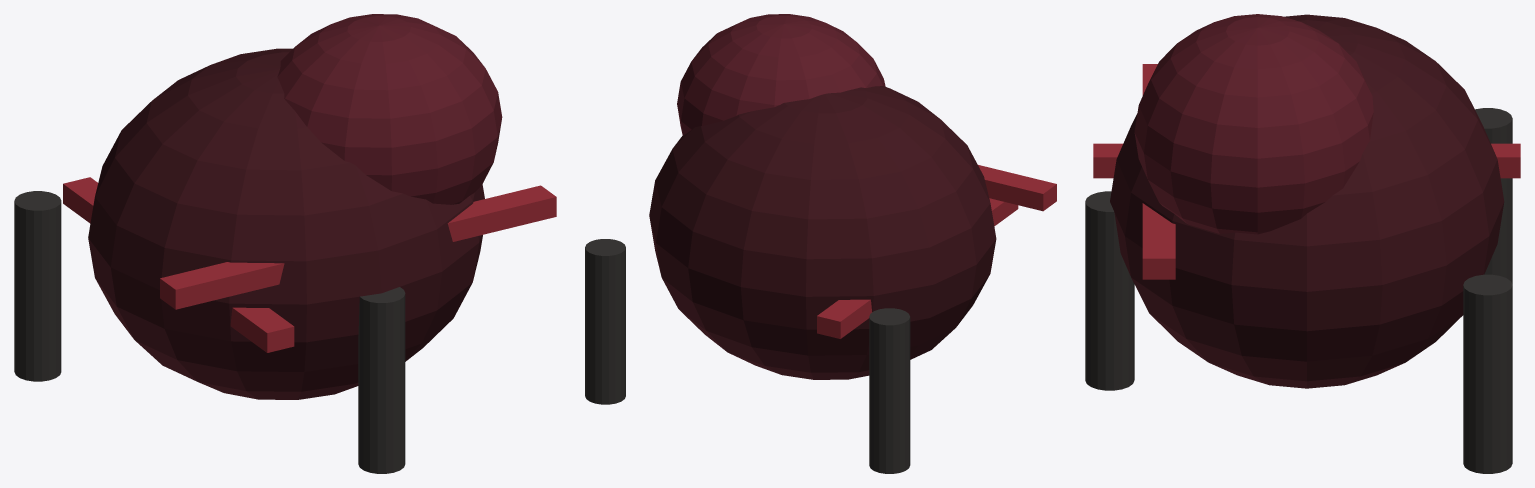
The model's file is heart.bcd49f98.glb.
3 views of the same model, side by side, from view 1: azimuth 30°, elevation 25°; view 2: azimuth 150°, elevation 25°; view 3: azimuth 270°, elevation 25° (orthographic). The views are drawn at different scales.
Parts seen in each view (by area): view 1: body; view 2: body; view 3: body.
Part boxes in pixels (box(x1,y1,x2,y2)): body: box(14, 14, 556, 473); body: box(585, 14, 1056, 473); body: box(1085, 14, 1520, 473).
Bounding box in the file's own units: 2.8 × 2.6 × 2.65.
